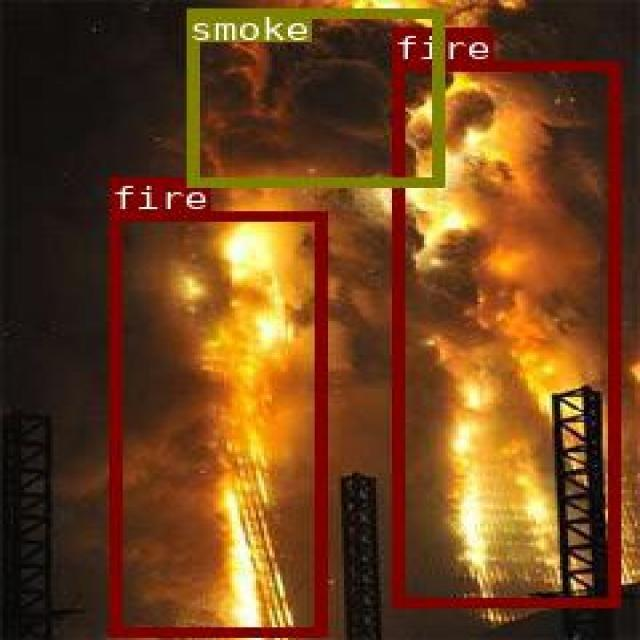fire: (391, 60, 617, 606), (108, 211, 323, 634)
smoke: (186, 8, 442, 184)
